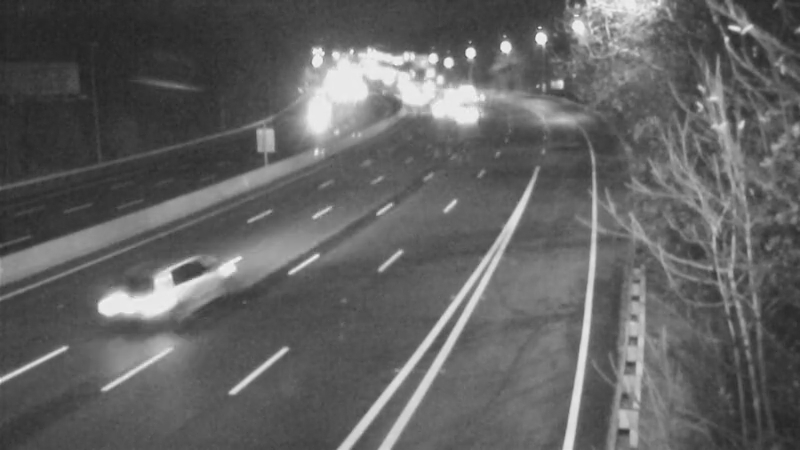vehicle: (96, 259, 176, 339), (419, 81, 469, 131), (439, 91, 489, 141), (291, 91, 341, 141)
